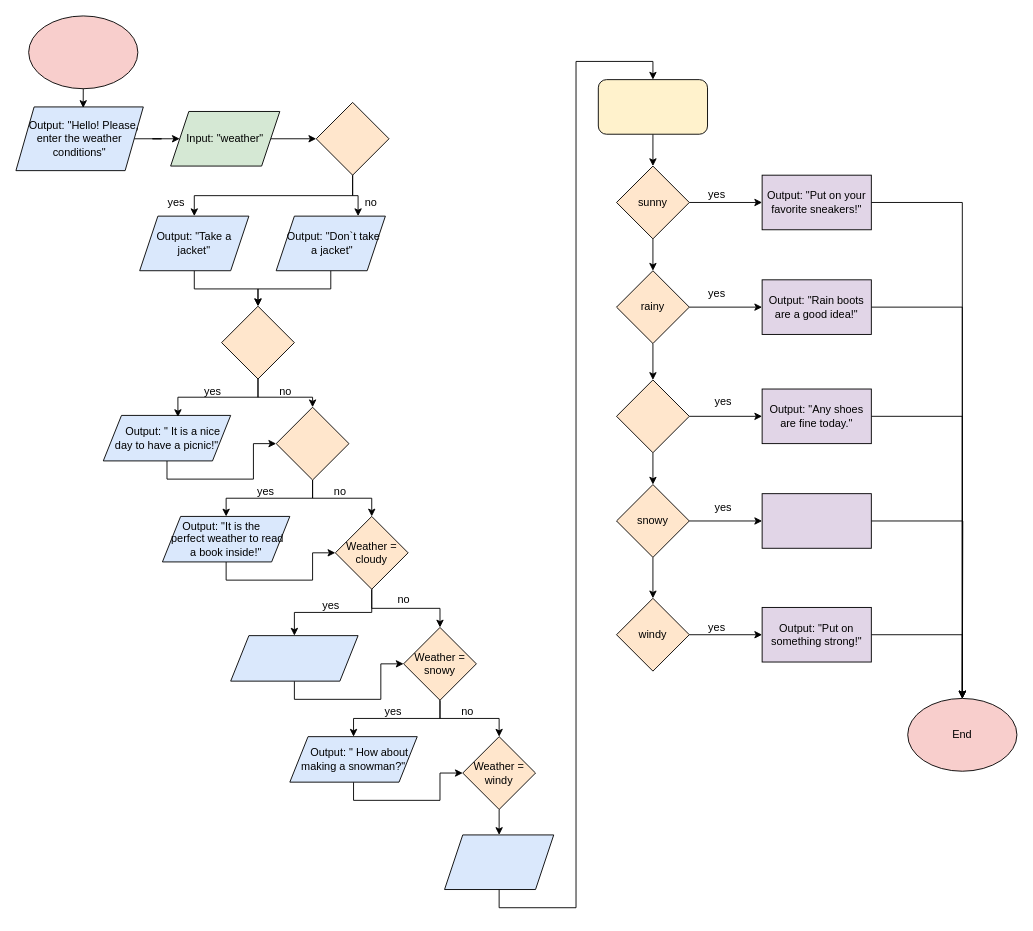
This 1033x931 diagram has some shape labels left out. The box of each missing label's shape, as (x1, y1, x2, y2) in pixels:
cloudy: (616, 379, 689, 453)
Output: " Maybe it is better to visit a museum. ": (230, 635, 358, 681)
Output: "Fly a kite if you have got it! ": (444, 834, 554, 890)
Output: "Snow boots will keep your feet warm! ": (761, 493, 871, 548)
Start: (28, 15, 138, 89)
Weather: (597, 79, 708, 134)
Weather = rainy: (275, 406, 349, 480)
Weather = rainy, snowy: (315, 101, 389, 175)
Weather = sunny: (221, 305, 294, 379)
